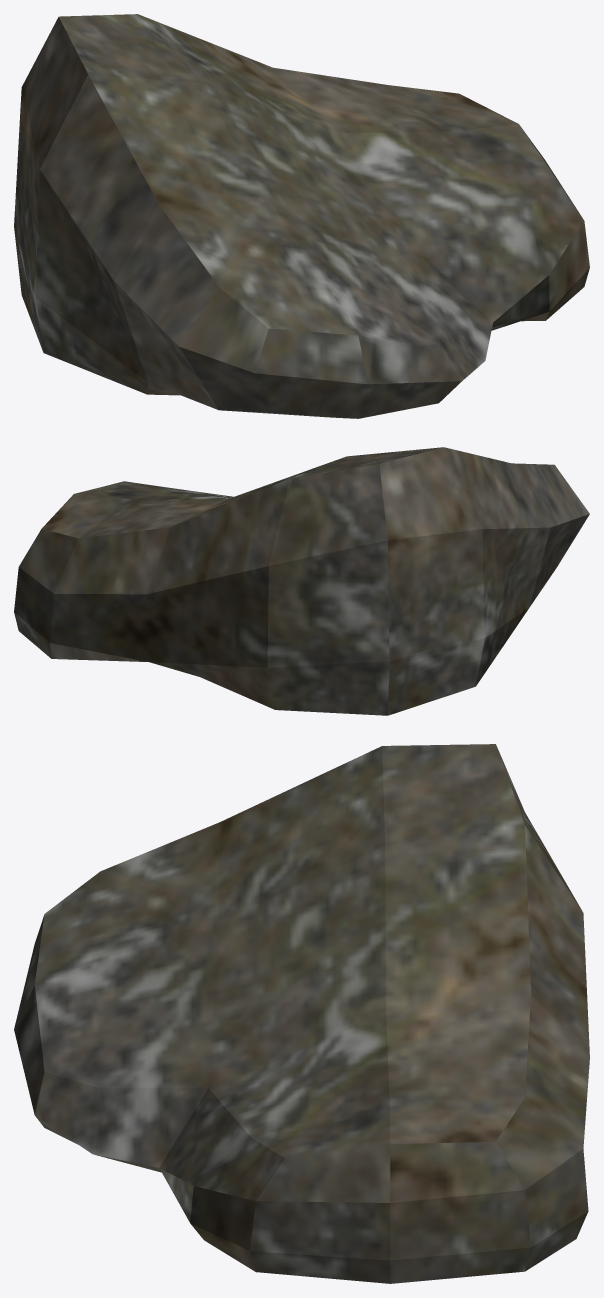
Rendered from rock1.fbx.
3 renders of one model, top to bottom at view 1: azimuth 30°, elevation 25°; view 2: azimuth 150°, elevation 25°; view 3: azimuth 270°, elevation 25°, orthographic. The views are drawn at different scales.
Visible parts, largest first — view 1: Cube; view 2: Cube; view 3: Cube.
Boxes of the visible parts, box(x1,y1,x2,y2) form: Cube: box(14, 14, 589, 418); Cube: box(14, 447, 589, 715); Cube: box(14, 744, 589, 1283).
Bounding box in the file's own units: 303 × 164 × 273.
